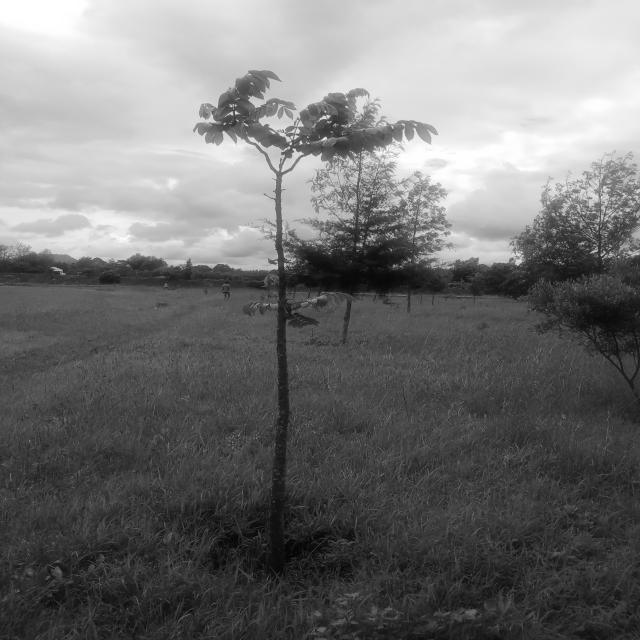Juniperus procesera: (281, 95, 440, 342)
Polyscias Kikuyensis: (187, 66, 439, 564)
